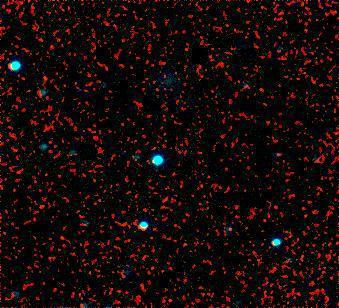star: (30, 63, 60, 93)
